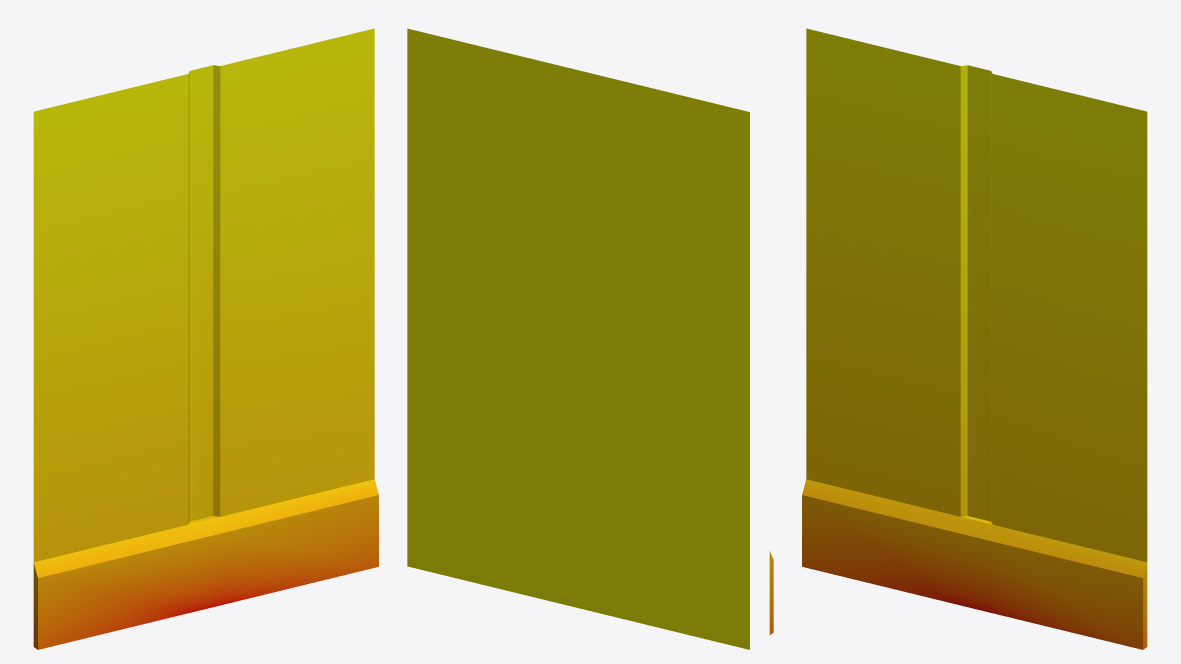
The model's file is metal-firstfloor-wall.glb.
3 views of the same model, side by side, from view 1: azimuth 30°, elevation 25°; view 2: azimuth 150°, elevation 25°; view 3: azimuth 330°, elevation 25° (orthographic).
Visible parts, largest first — view 1: Metal_FirstFloor_Wall; view 2: Metal_FirstFloor_Wall; view 3: Metal_FirstFloor_Wall.
Part boxes in pixels (<box>): Metal_FirstFloor_Wall: <box>33,28,378,649</box>; Metal_FirstFloor_Wall: <box>407,28,773,649</box>; Metal_FirstFloor_Wall: <box>802,28,1147,649</box>.
Size of the model in its own units: 2 by 3 by 0.242.
Materials: 3 (3 with a texture image).
